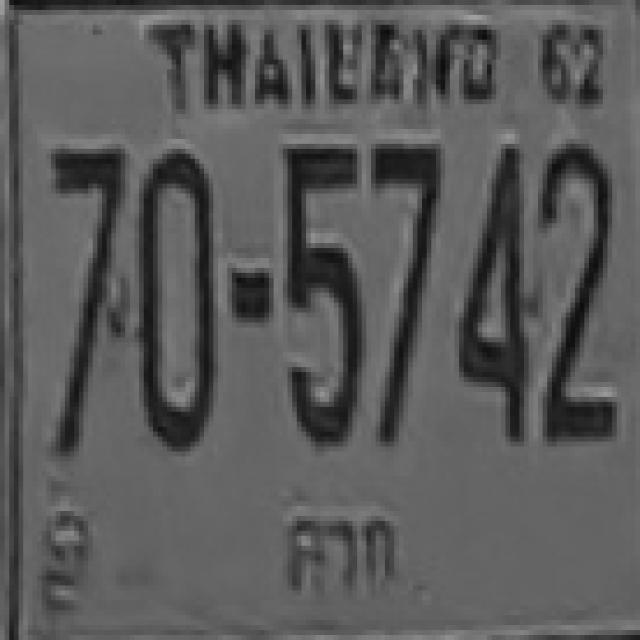0: (283, 238, 362, 442)
7: (53, 146, 123, 315), (371, 142, 441, 305)
Tak: (268, 507, 408, 597)
